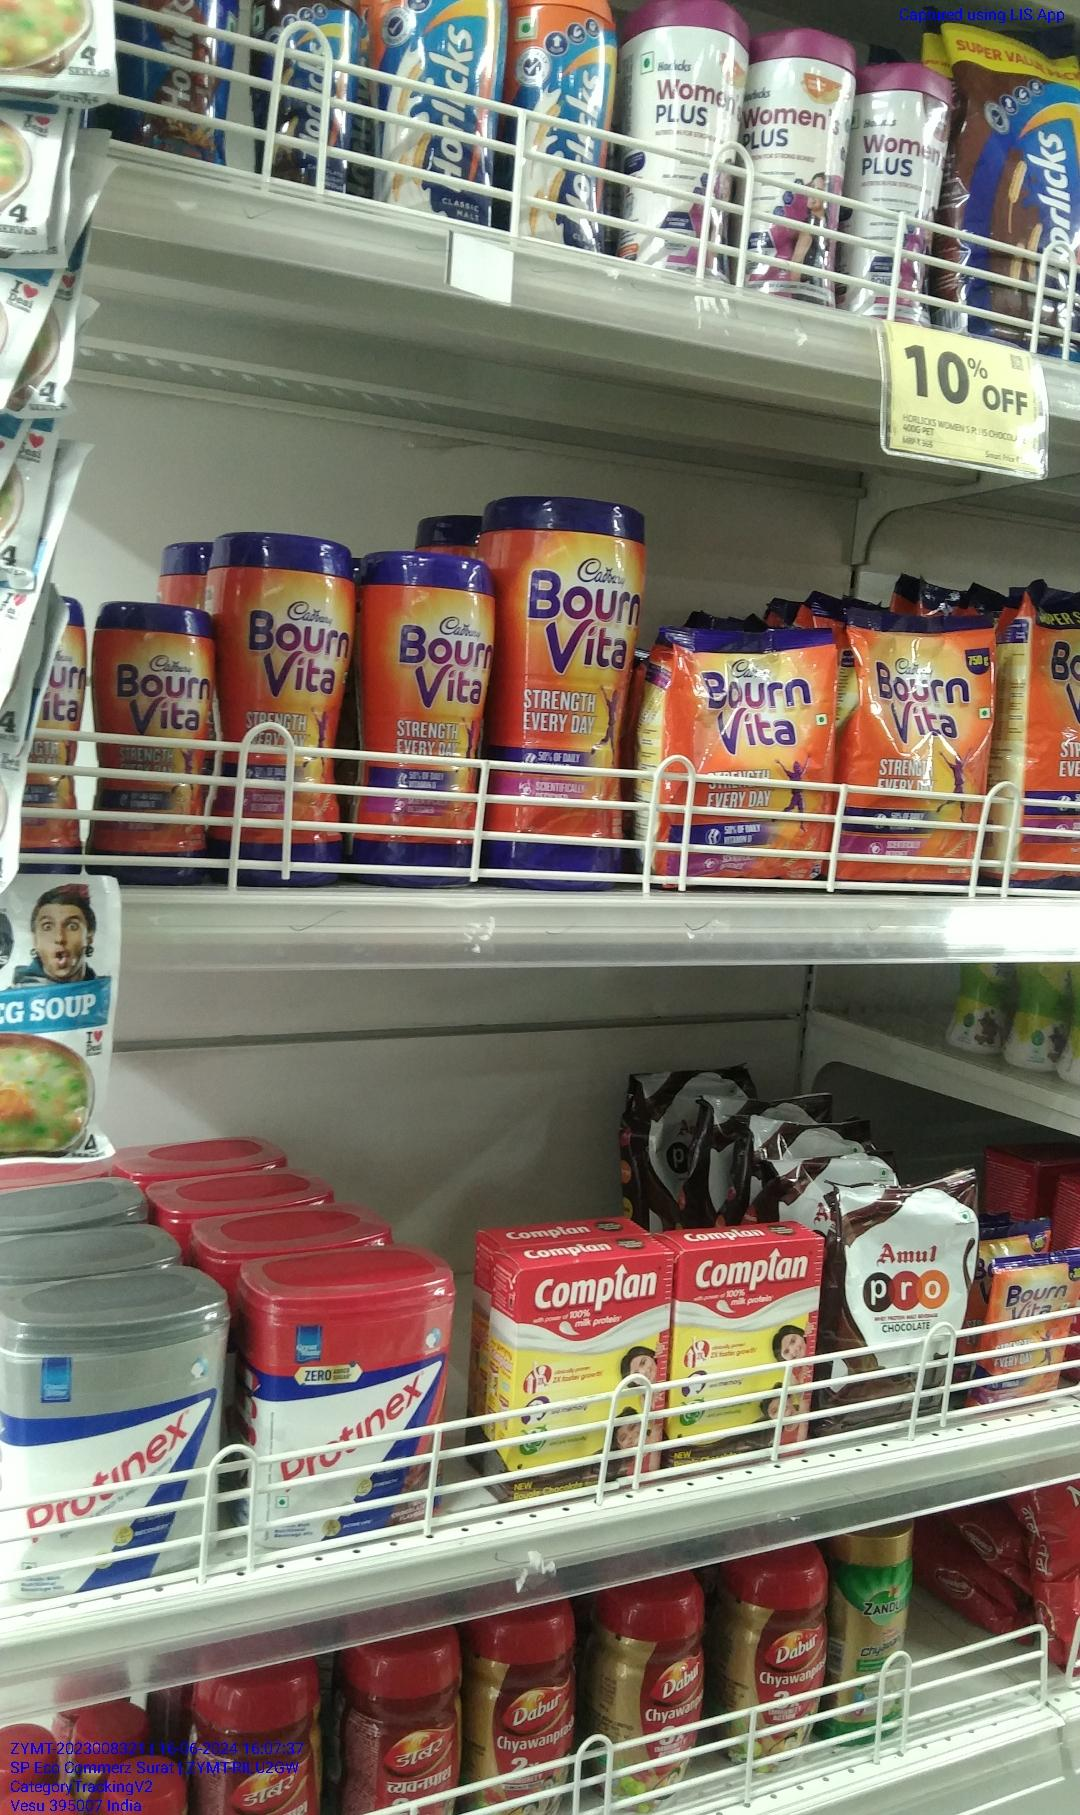BOURN_VITA_1_KG_JAR: (491, 492, 634, 890)
BOURN_VITA_200_G_JAR: (93, 605, 215, 883)
BOURN_VITA_500_G_JAR: (357, 546, 485, 887), (225, 531, 342, 883)
BOURN_VITA_500_G_POUCH: (653, 634, 833, 886)
BOURN_VITA_750_G_POUCH: (842, 612, 985, 887)
COMPLAN_CHOCOLATE_500_GMS_PACK: (510, 1257, 669, 1485), (676, 1240, 809, 1447)
PROTINEX_CHOCOLATE_400_G_JAR: (246, 1271, 450, 1537)
PROTINEX_ORIGINAL_400_G_JAR: (0, 1298, 231, 1581)
